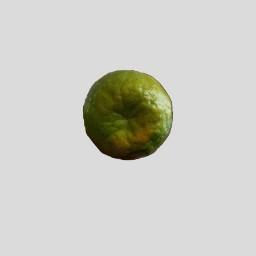Unripe: (83, 69, 174, 160)
